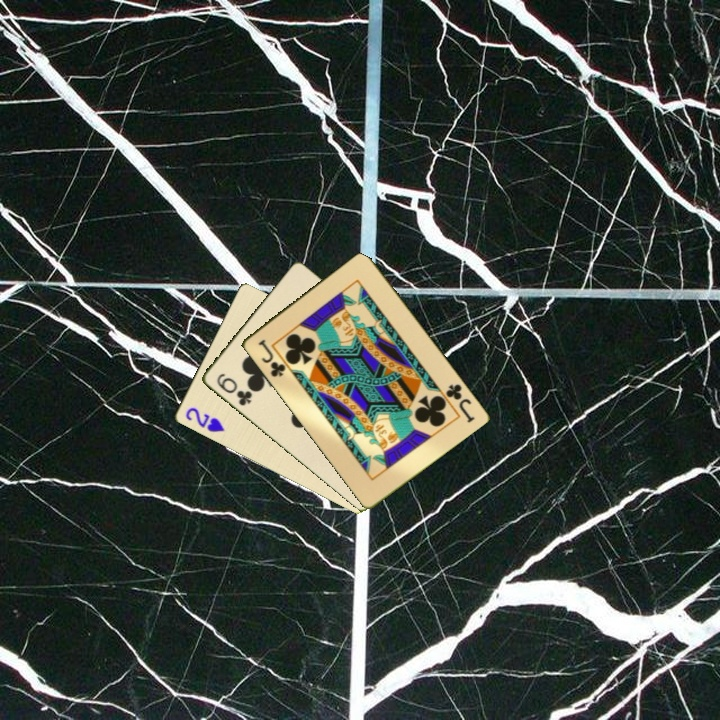2h: (181, 404, 227, 436)
6c: (213, 370, 255, 409)
Jc: (441, 380, 477, 426), (254, 335, 288, 380)
